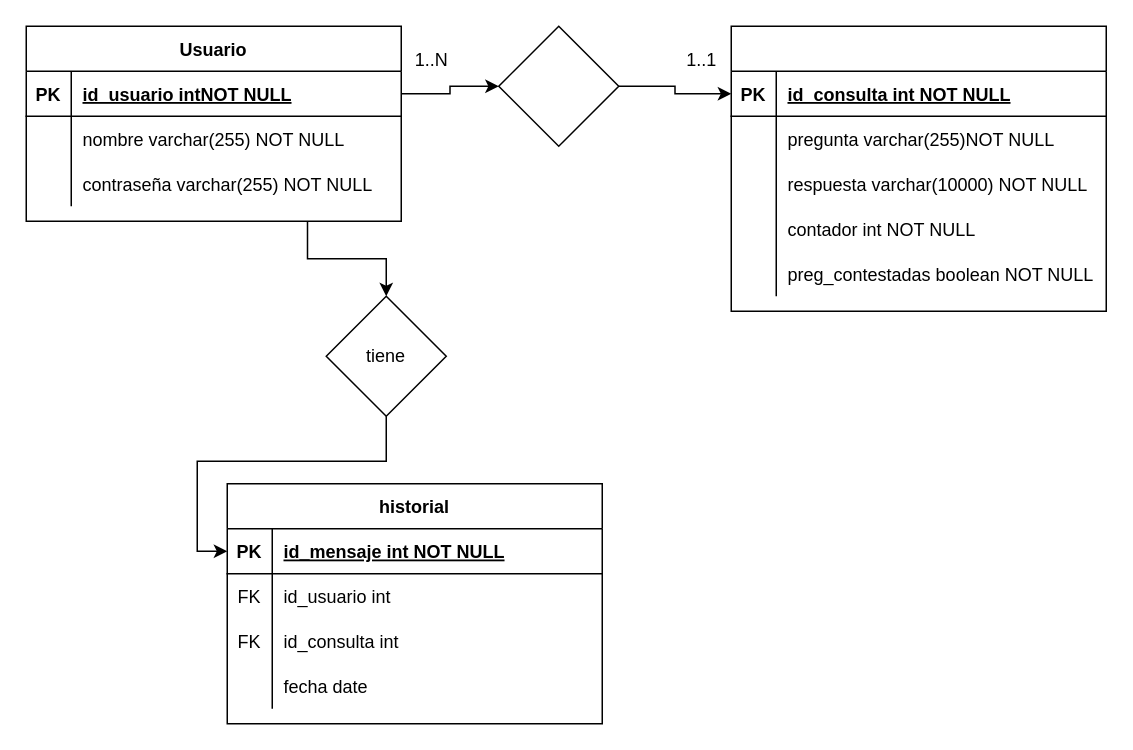
Image size: 1133x750. Some labels were removed from this diagram. Each missing label, with the box of its shape:
consultas: (730, 25, 1106, 311)
revisa: (497, 25, 619, 146)
